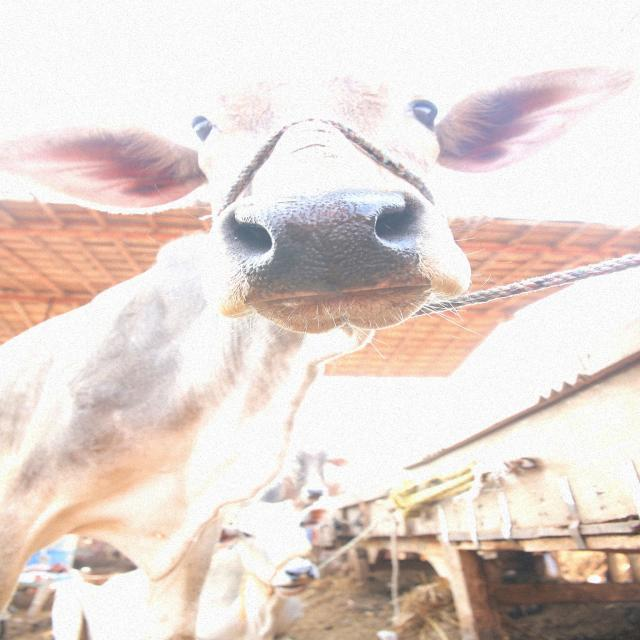muzzles: (211, 184, 440, 301)
